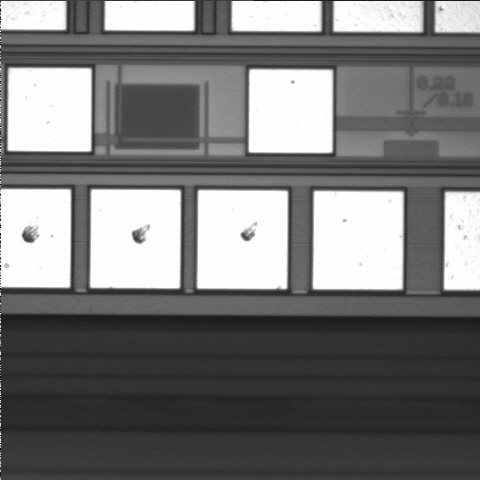pad: (197, 190, 288, 289), (90, 190, 181, 288), (313, 191, 403, 289), (249, 69, 333, 153), (8, 68, 91, 151)
